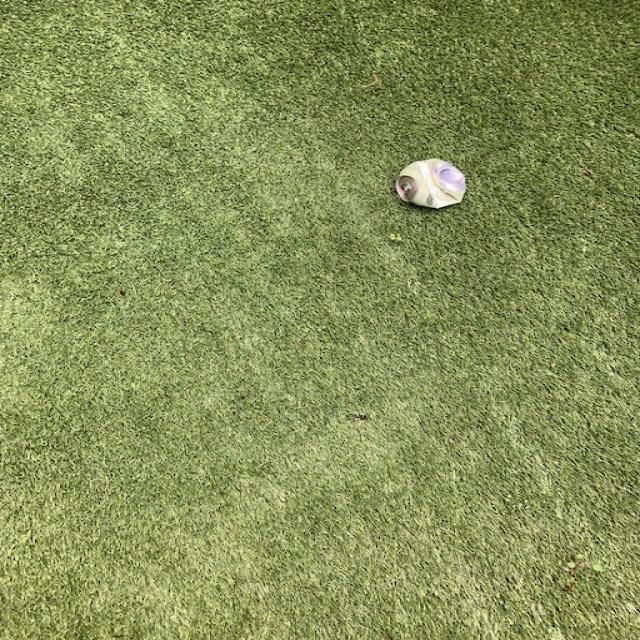litter: (390, 155, 475, 223)
